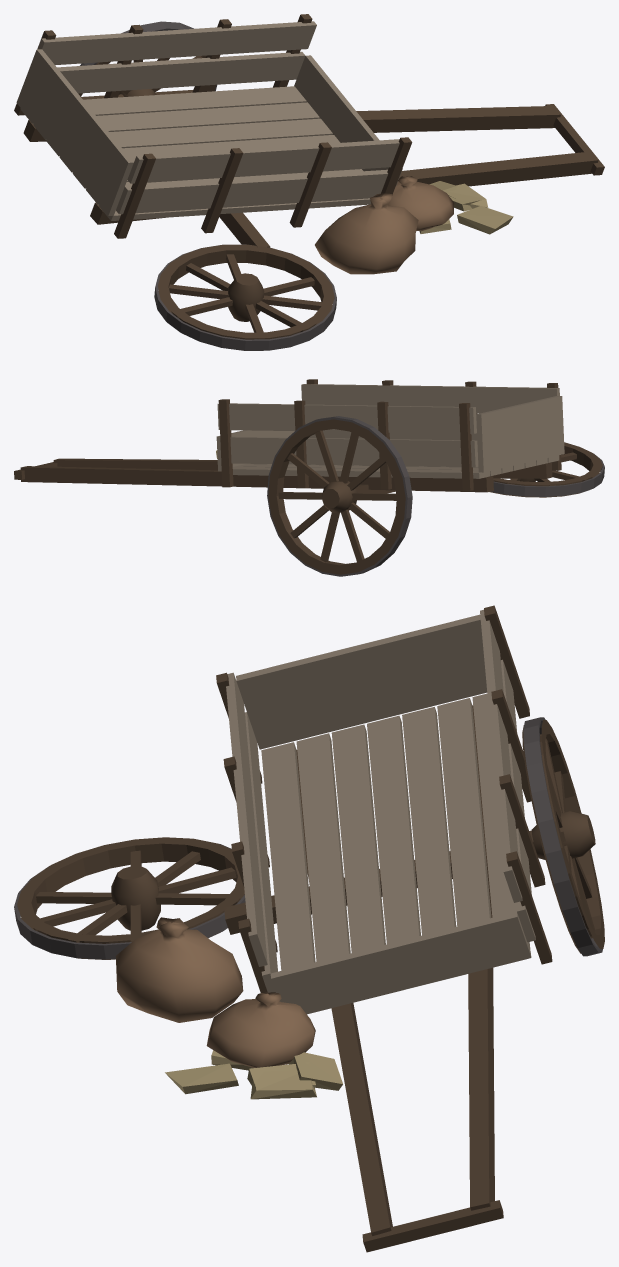
Rendered from cart.glb.
3 views of the same model, one above another, from view 1: azimuth 30°, elevation 25°; view 2: azimuth 150°, elevation 25°; view 3: azimuth 270°, elevation 25° (orthographic). The views are drawn at different scales.
Parts seen in each view (by area): view 1: cart; view 2: cart; view 3: cart.
Boxes of the visible parts, box(x1,y1,x2,y2) form: cart: box(14, 14, 604, 350); cart: box(14, 379, 604, 576); cart: box(14, 605, 604, 1252).
Size of the model in its own units: 3.73 by 1.56 by 2.66.
